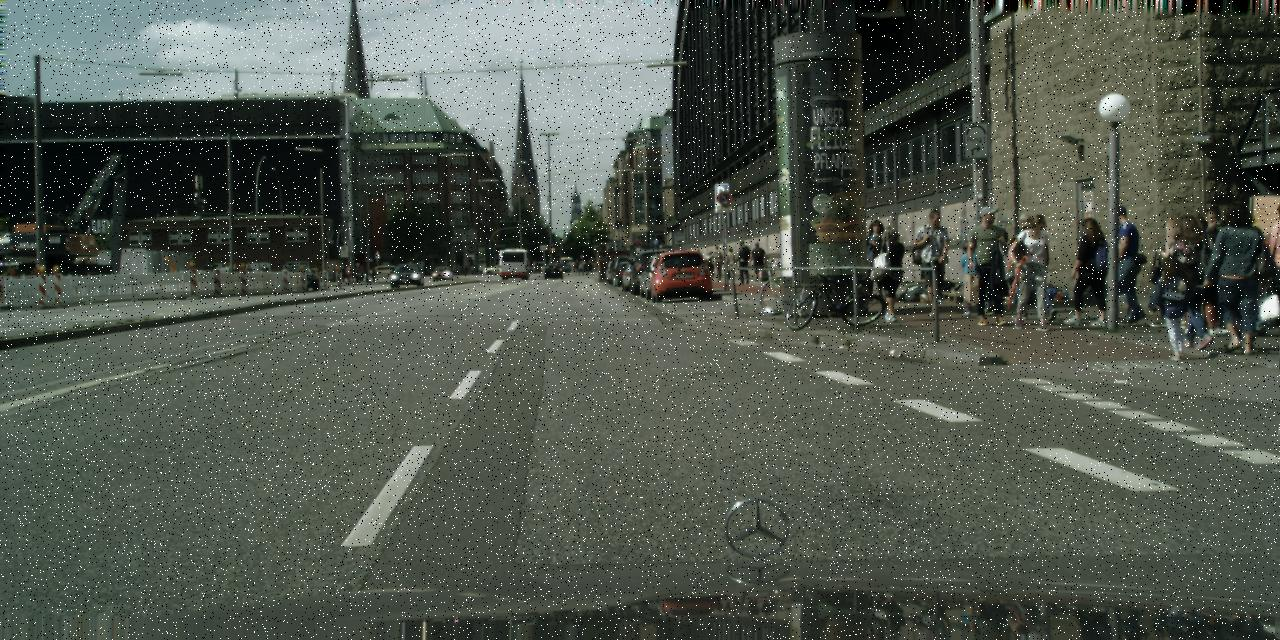ped: (1208, 203, 1269, 353), (1164, 215, 1218, 348), (1100, 204, 1148, 324), (965, 206, 1013, 324), (1010, 213, 1058, 329), (1151, 218, 1196, 326), (1066, 218, 1110, 326), (1194, 204, 1229, 337), (1008, 212, 1051, 318), (1238, 231, 1279, 335), (1154, 255, 1196, 356), (915, 209, 955, 307), (870, 226, 909, 322), (858, 218, 891, 300), (956, 240, 986, 314), (734, 239, 752, 283), (750, 242, 766, 282), (711, 245, 724, 279), (203, 258, 216, 290), (724, 248, 736, 278), (692, 248, 704, 276), (230, 264, 240, 291), (1185, 332, 1198, 349), (1180, 310, 1190, 332), (570, 258, 579, 276), (356, 266, 364, 282), (220, 262, 230, 272), (370, 265, 376, 281), (578, 262, 583, 274), (706, 251, 711, 263), (1187, 214, 1197, 220), (587, 262, 591, 274), (712, 268, 714, 278), (1196, 350, 1204, 352)
